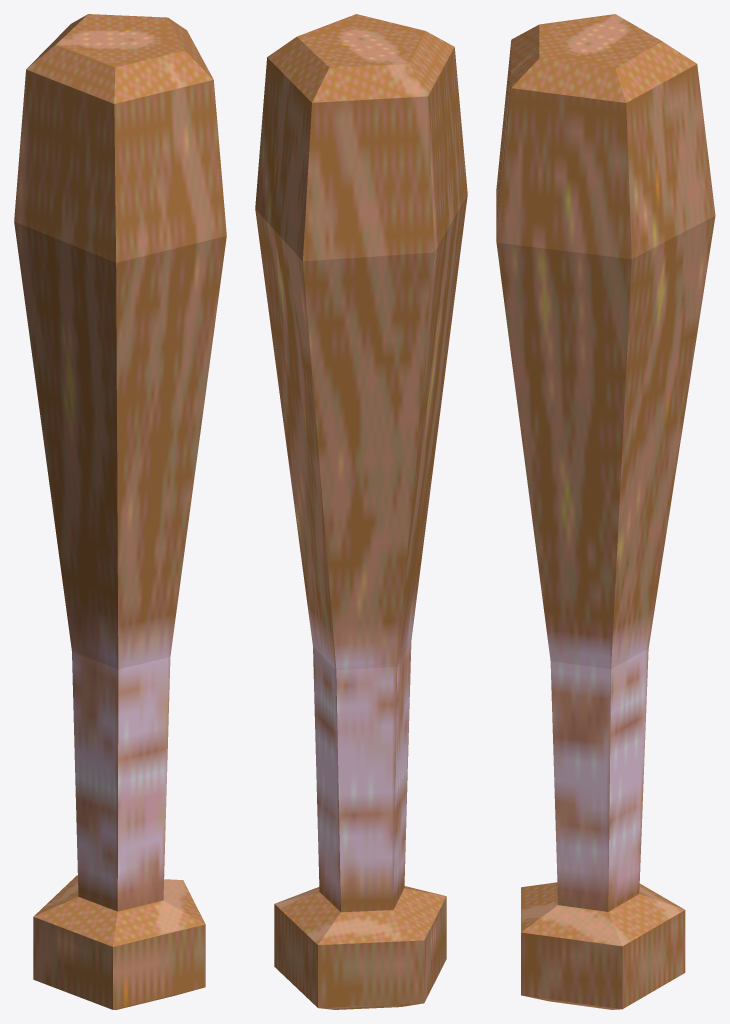
Rendered from bat.fbx.
3 renders of one model, left to right at view 1: azimuth 30°, elevation 25°; view 2: azimuth 150°, elevation 25°; view 3: azimuth 270°, elevation 25°, orthographic.
Visible parts, largest first — view 1: Cylinder; view 2: Cylinder; view 3: Cylinder.
Boxes of the visible parts, x1,y1,x2,y2 form: Cylinder: [14, 14, 226, 1009]; Cylinder: [255, 14, 467, 1009]; Cylinder: [496, 14, 715, 1009].
Size of the model in its own units: 57.76 by 292 by 61.25.
